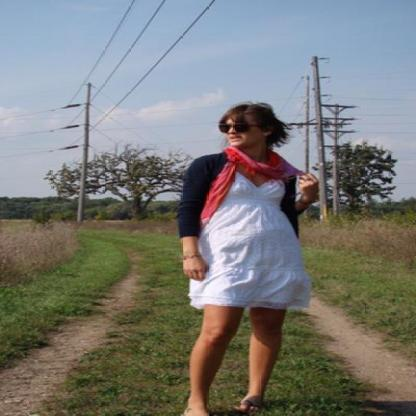dress: (188, 174, 315, 310)
jacket: (174, 152, 304, 238)
shoe: (237, 397, 269, 415)
sunglass: (218, 116, 257, 137)
